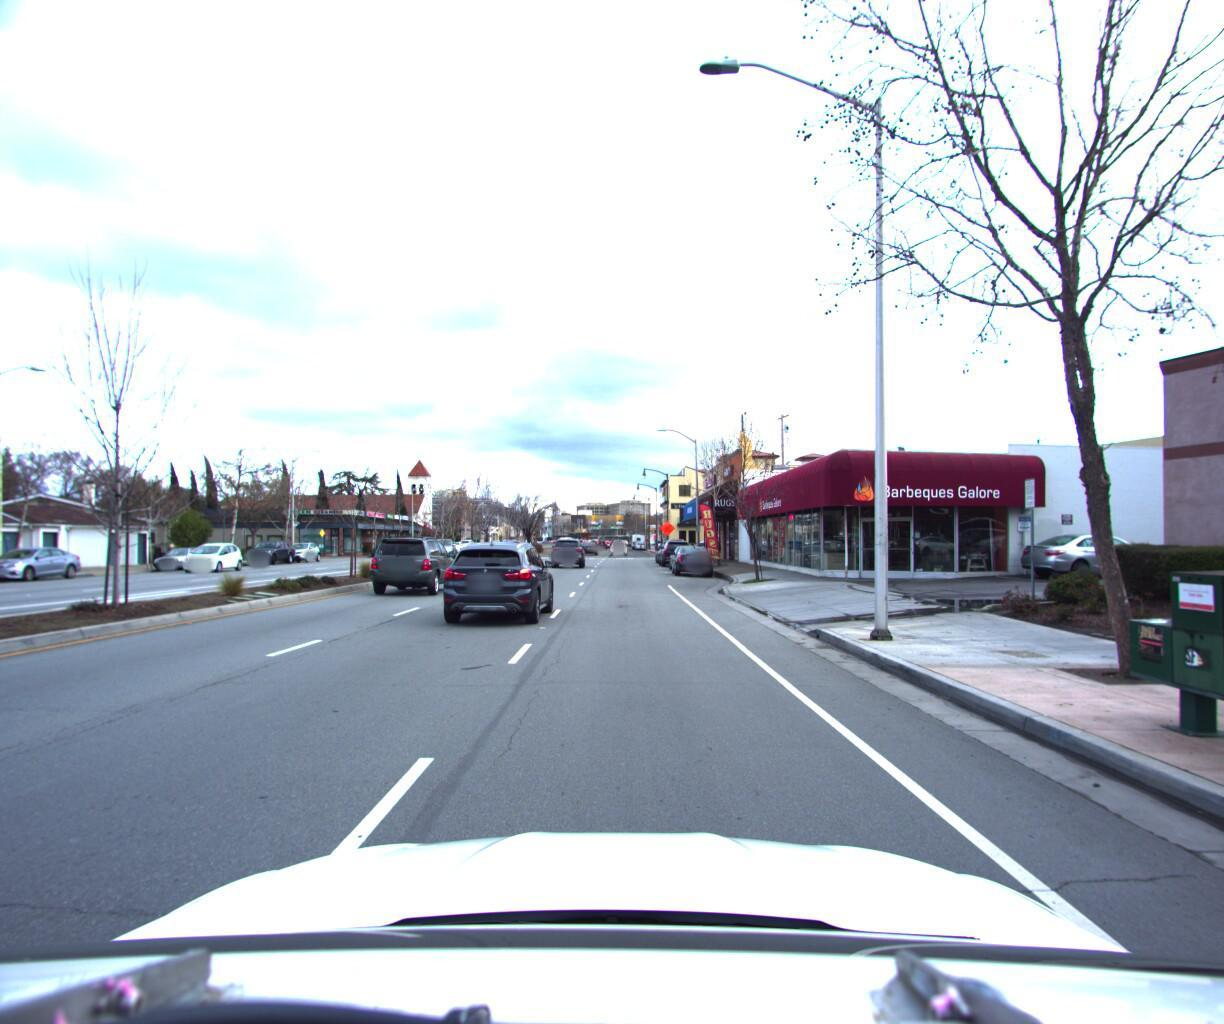car: (437, 526, 556, 620), (1008, 525, 1158, 574), (367, 530, 457, 593), (0, 542, 90, 582), (175, 537, 245, 571), (147, 542, 215, 569), (667, 535, 714, 573), (240, 534, 297, 560), (549, 531, 583, 561), (656, 532, 689, 561), (278, 536, 322, 557), (611, 536, 628, 550)
